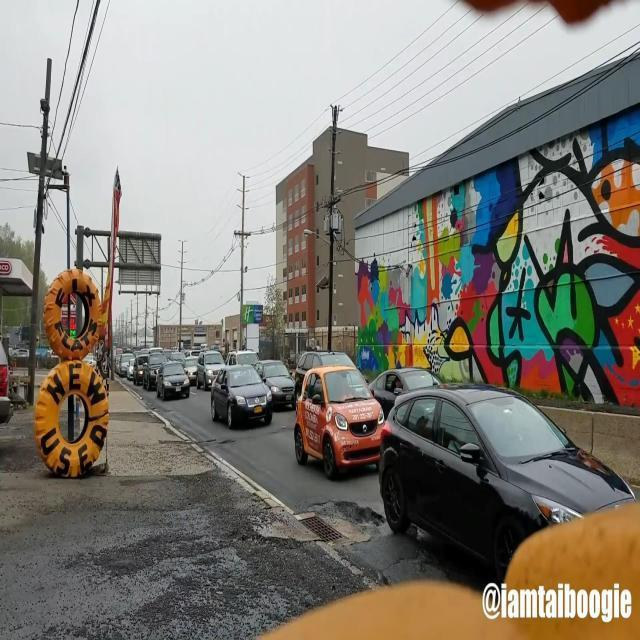Pothole: (228, 487, 394, 561)
